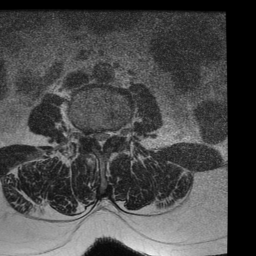CCS_normal: (98, 124, 104, 158)
LFS_stenosis: (111, 120, 119, 145)
LLS_stenosis: (104, 124, 111, 148)
RFS_severe_stenosis: (84, 124, 90, 146)
RLS_stenosis: (90, 124, 98, 147)
